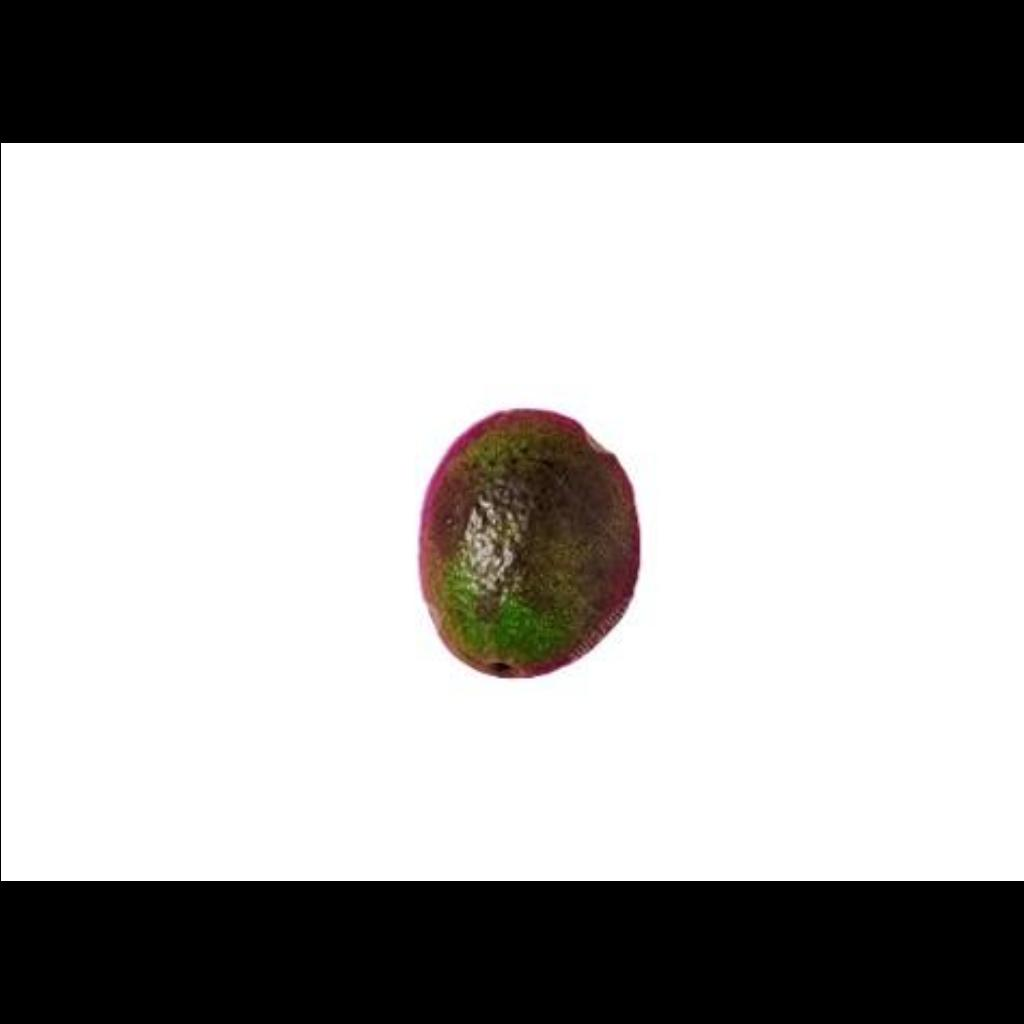antracnosis_fruto: (384, 409, 661, 686)
